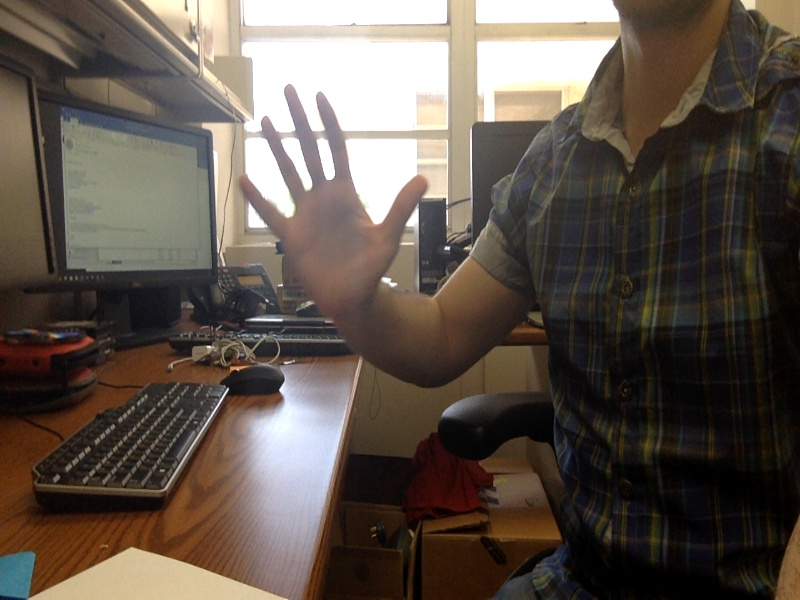5-hand: (239, 87, 430, 321)
